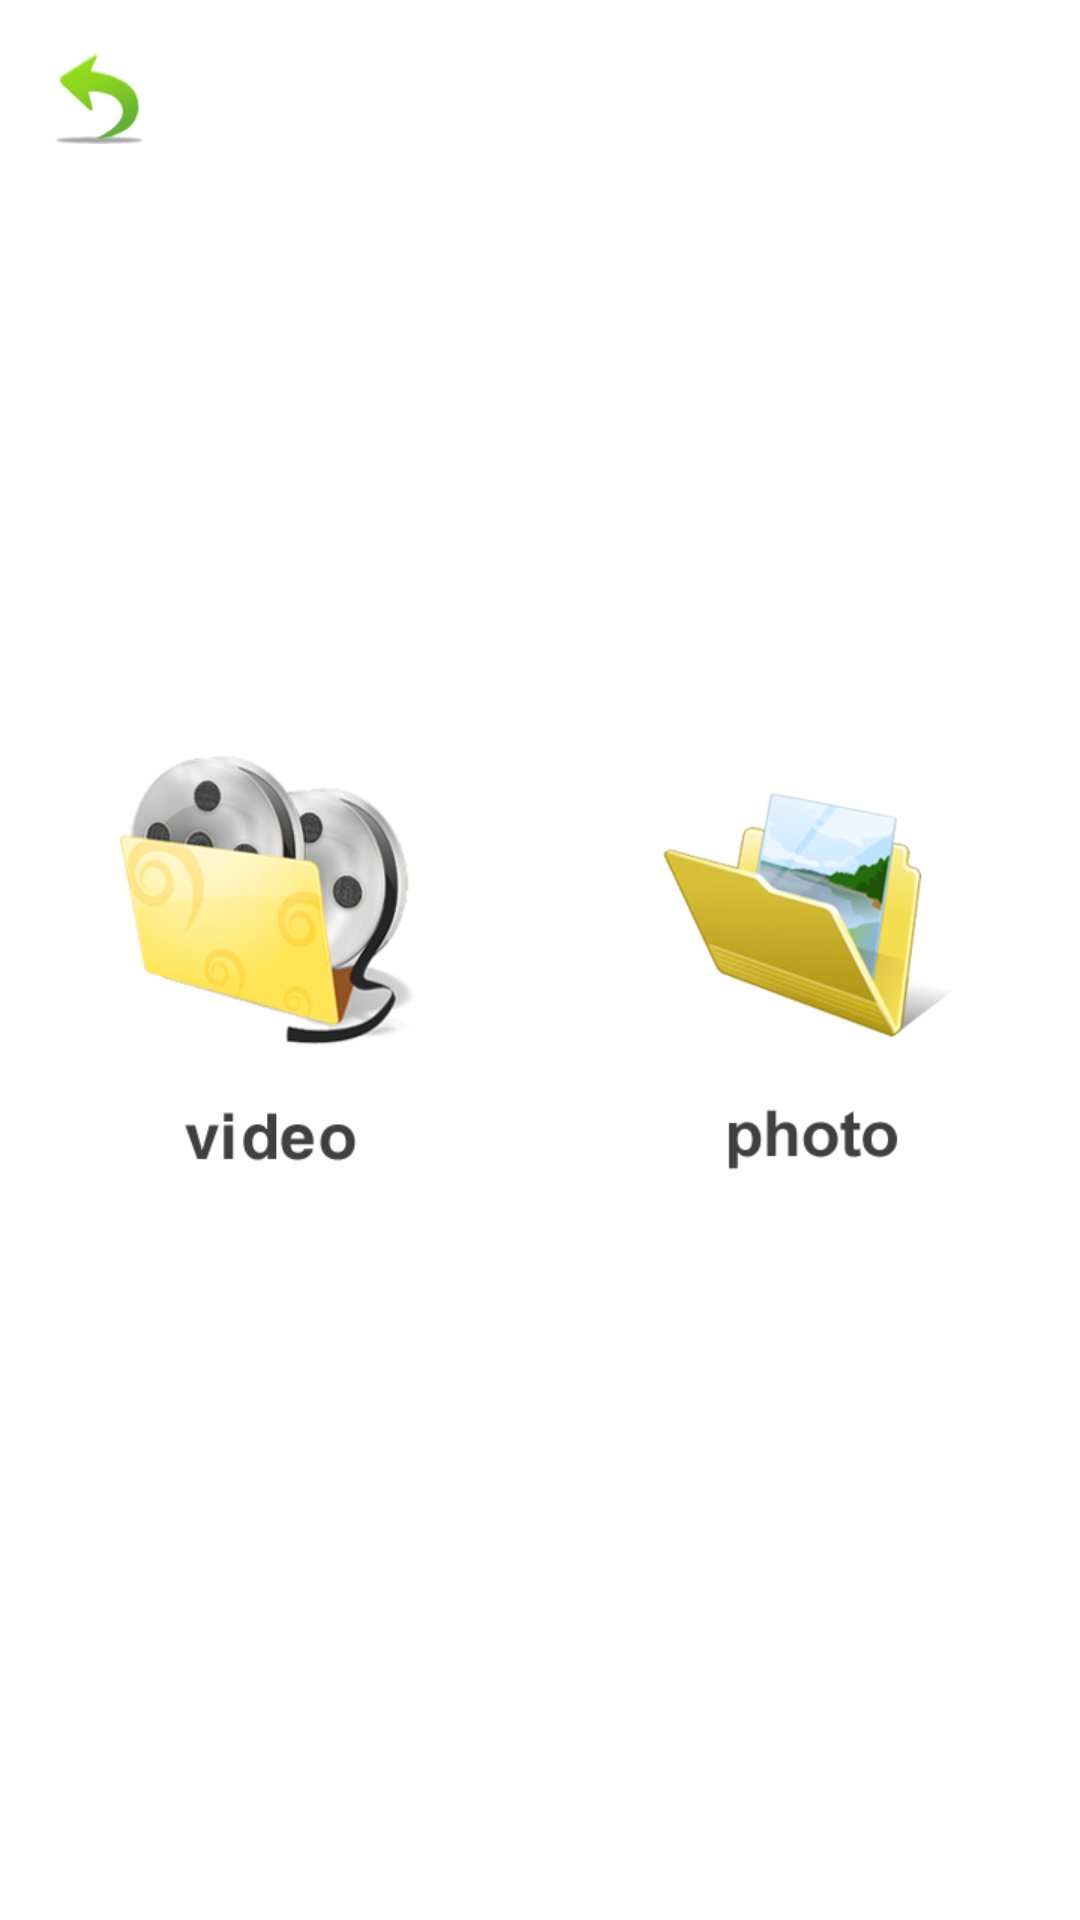

Named icons in this screenshot (1080×1920) and their centers, point (x, y):
back state: point (99, 99)
